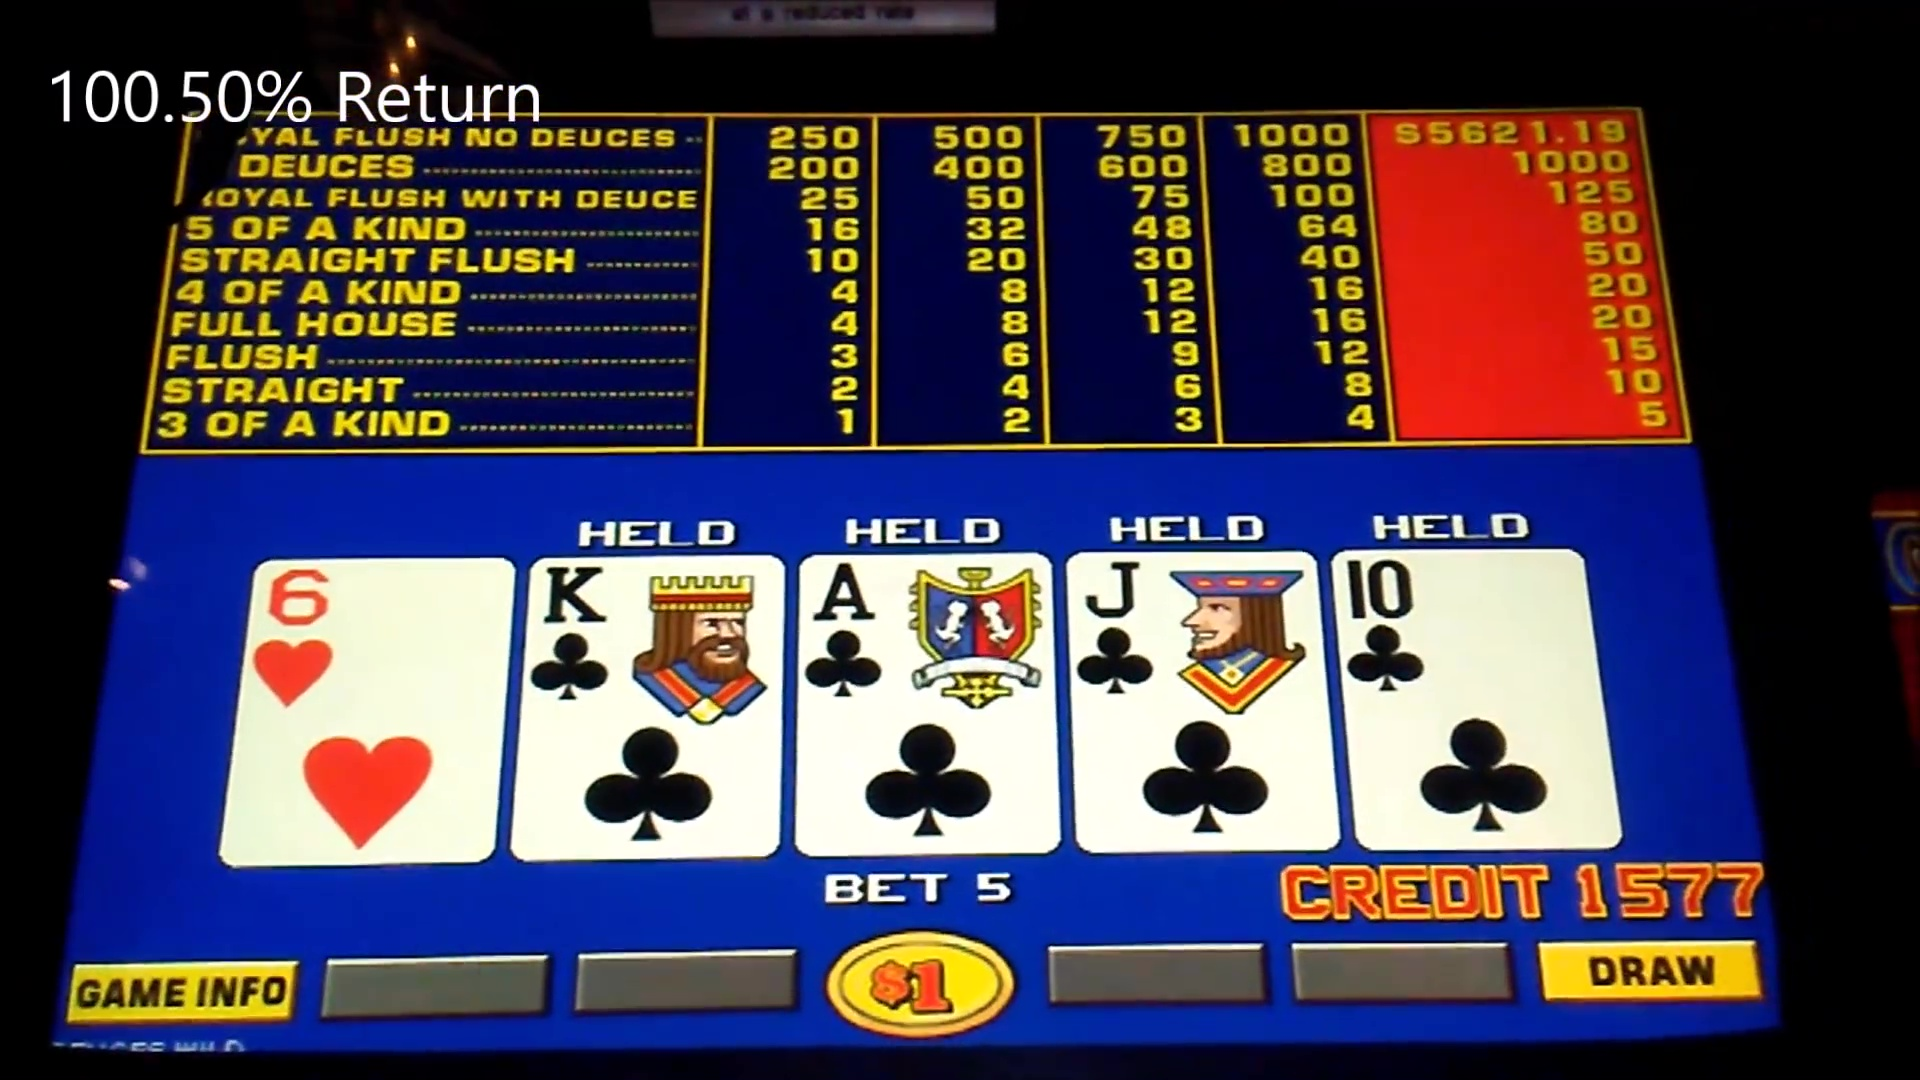CA: (804, 554, 1052, 702)
CJ: (1077, 550, 1321, 699)
CK: (526, 558, 783, 707)
CT: (1348, 550, 1586, 698)
H6: (243, 555, 502, 709)
